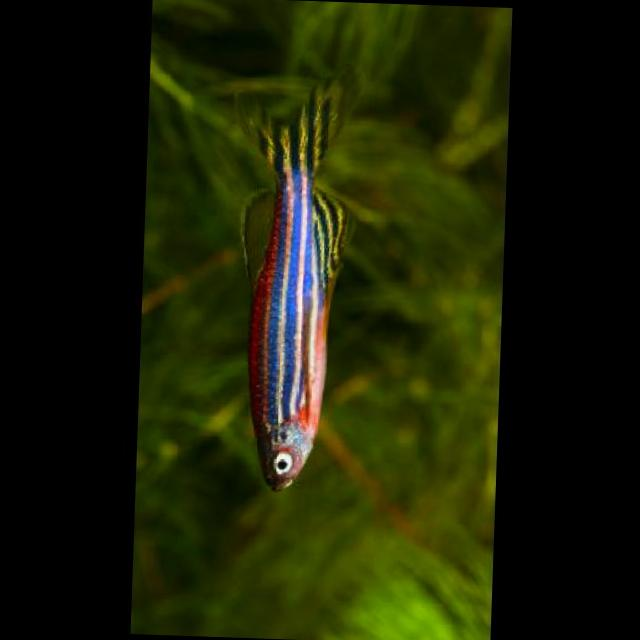ZebraFish: (212, 67, 363, 494)
